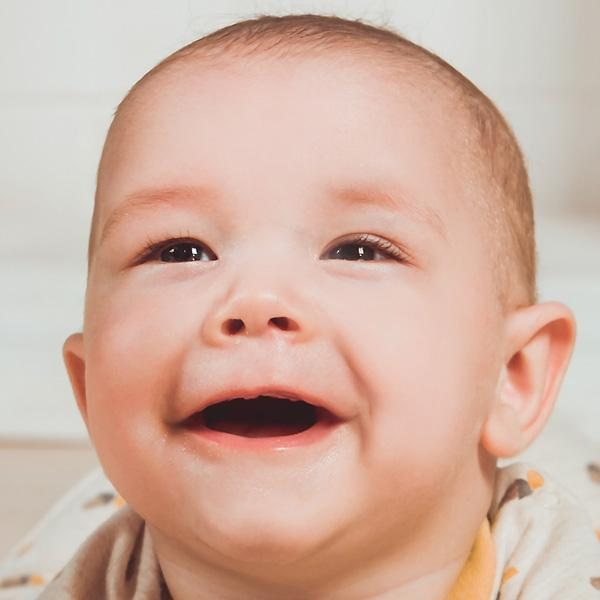Eyes: (308, 218, 424, 291), (118, 221, 226, 285)
